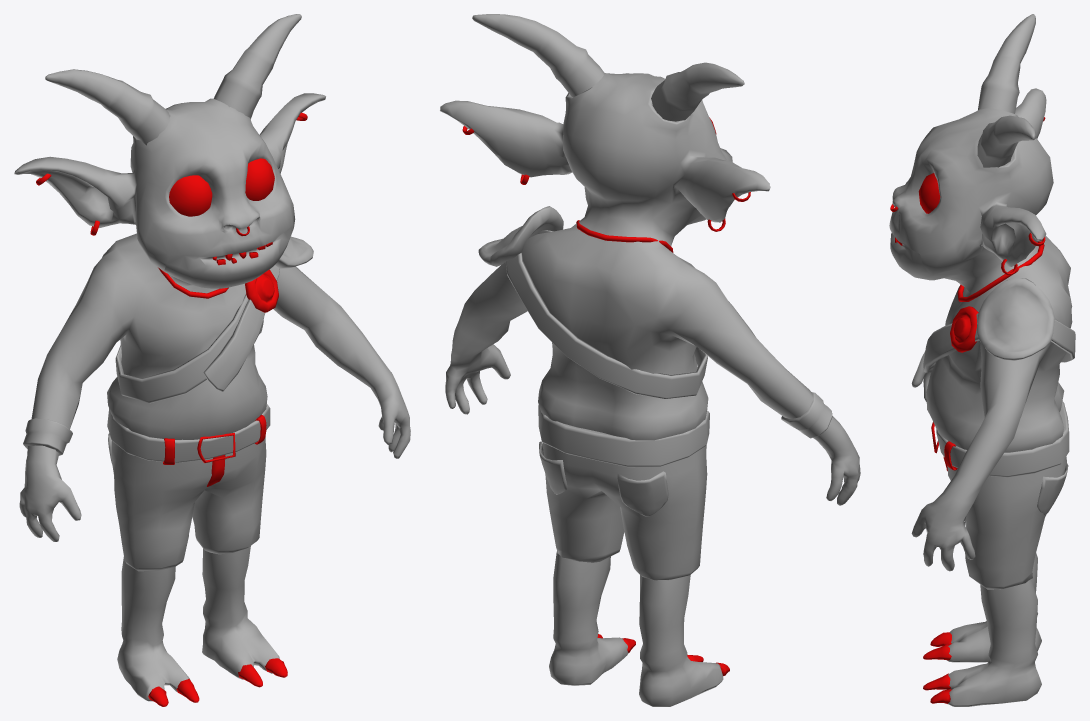
Rendered from Goblin1.fbx.
3 renders of one model, left to right at view 1: azimuth 30°, elevation 25°; view 2: azimuth 150°, elevation 25°; view 3: azimuth 270°, elevation 25°, orthographic. The views are drawn at different scales.
Parts seen in each view (by area): view 1: goblin; view 2: goblin; view 3: goblin.
Boxes of the visible parts, box(x1,y1,x2,y2) form: goblin: box(14, 14, 410, 706); goblin: box(440, 14, 860, 706); goblin: box(889, 14, 1075, 706).
Bounding box in the file's own units: 10.29 × 15.77 × 4.4.
